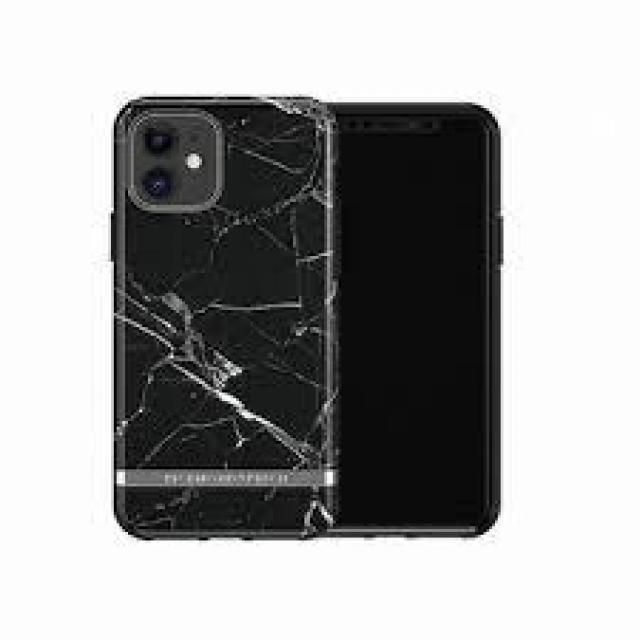phone: (105, 91, 338, 541), (332, 96, 512, 544)
